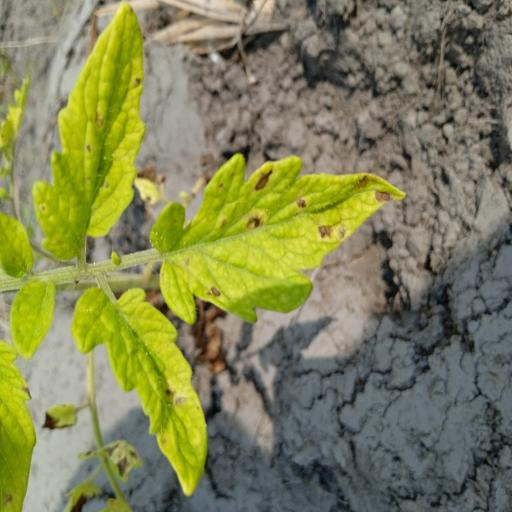Tomato_Brown_Spots: (156, 150, 408, 325), (70, 274, 214, 500), (32, 0, 154, 266)
